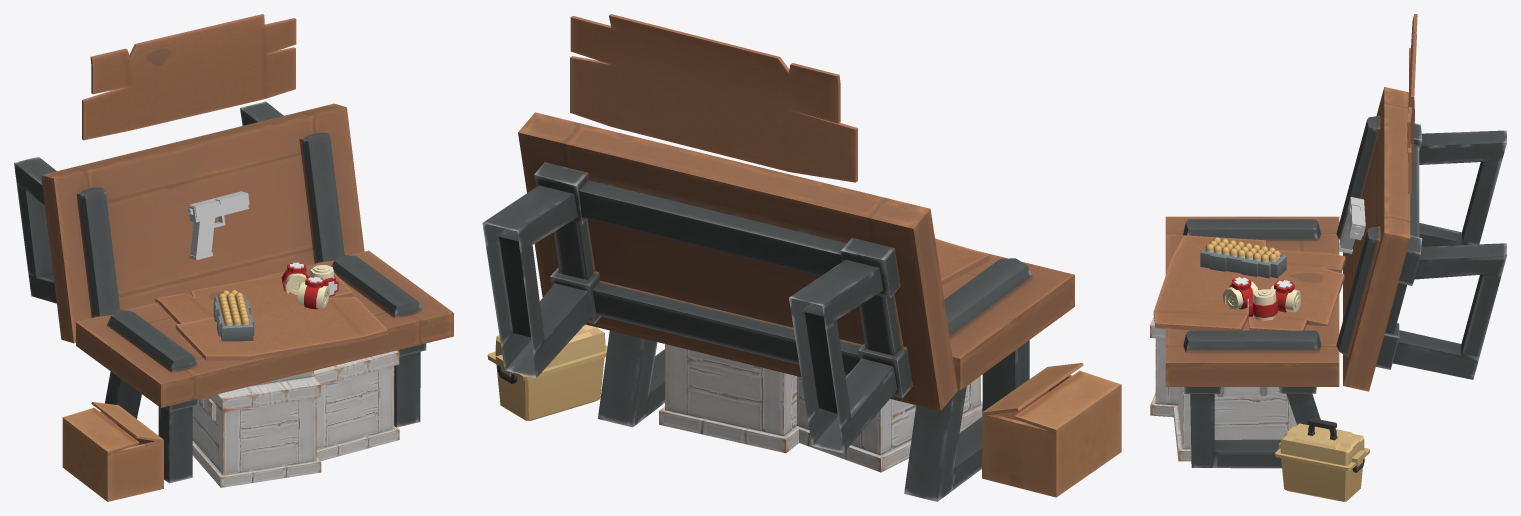
Rendered from StarterKit.fbx.
3 views of the same model, side by side, from view 1: azimuth 30°, elevation 25°; view 2: azimuth 150°, elevation 25°; view 3: azimuth 270°, elevation 25° (orthographic). The views are drawn at different scales.
Parts seen in each view (by area): view 1: Mat_Indoors_Table_02, Mat_PaperBox_02, Mat_WoodBox_01_1, Mat_PaperBox_01_01, ColorA, Glick1, ColorB, Glick1 1; view 2: Mat_Indoors_Table_02, Mat_PaperBox_02, Mat_WoodBox_01_1, Mat_PaperBox_01_01, ColorA; view 3: Mat_Indoors_Table_02, Mat_PaperBox_02, ColorA, Mat_WoodBox_01_1, ColorB, Glick1, Glick1 1.
Boxes of the visible parts, bbox=[...] form: Mat_Indoors_Table_02: bbox=[14, 101, 453, 483]; Mat_PaperBox_02: bbox=[82, 14, 387, 360]; Mat_WoodBox_01_1: bbox=[192, 350, 399, 487]; Mat_PaperBox_01_01: bbox=[62, 402, 163, 501]; ColorA: bbox=[213, 262, 338, 341]; Glick1: bbox=[188, 200, 248, 260]; ColorB: bbox=[218, 290, 249, 325]; Glick1 1: bbox=[188, 191, 249, 217]; Mat_Indoors_Table_02: bbox=[482, 112, 1074, 501]; Mat_PaperBox_02: bbox=[570, 14, 989, 285]; Mat_WoodBox_01_1: bbox=[659, 344, 982, 472]; Mat_PaperBox_01_01: bbox=[982, 363, 1121, 497]; ColorA: bbox=[487, 324, 607, 420]; Mat_Indoors_Table_02: bbox=[1165, 87, 1506, 468]; Mat_PaperBox_02: bbox=[1153, 14, 1417, 330]; ColorA: bbox=[1200, 242, 1369, 501]; Mat_WoodBox_01_1: bbox=[1150, 316, 1296, 461]; ColorB: bbox=[1206, 237, 1280, 262]; Glick1: bbox=[1338, 205, 1364, 253]; Glick1 1: bbox=[1348, 197, 1365, 236].
Bounding box in the file's own units: 2.4 × 2.04 × 1.87.
8 materials, 8 textured.
